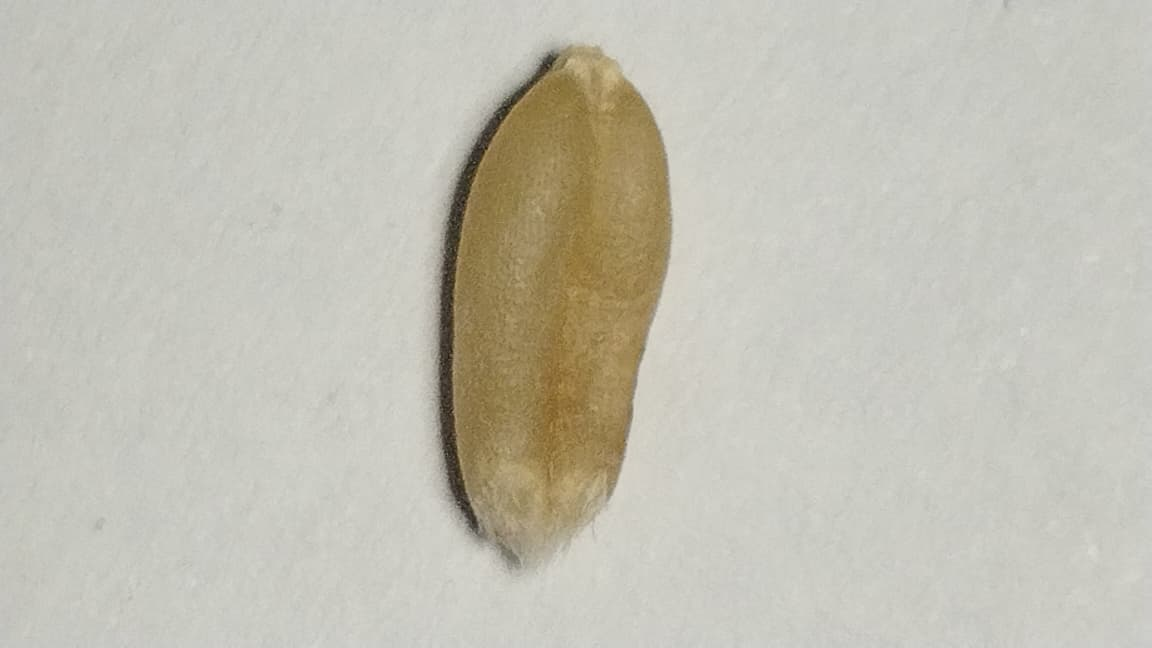healthy: (451, 48, 671, 558)
